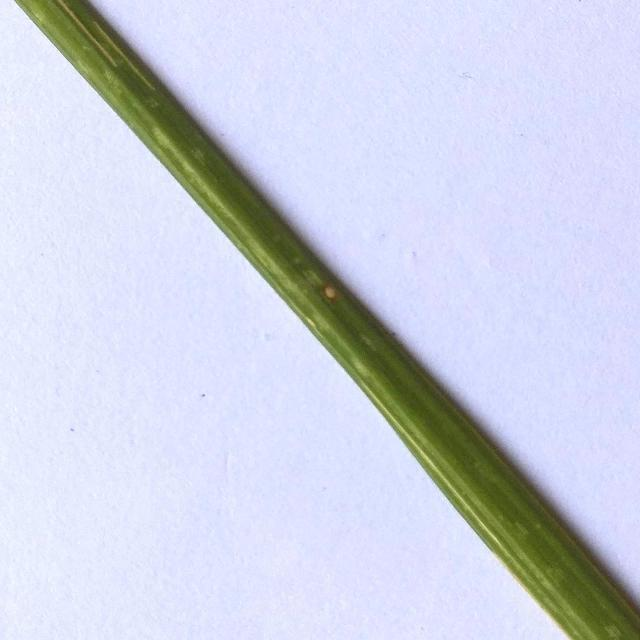Leaf_Blast: (319, 276, 348, 314)
